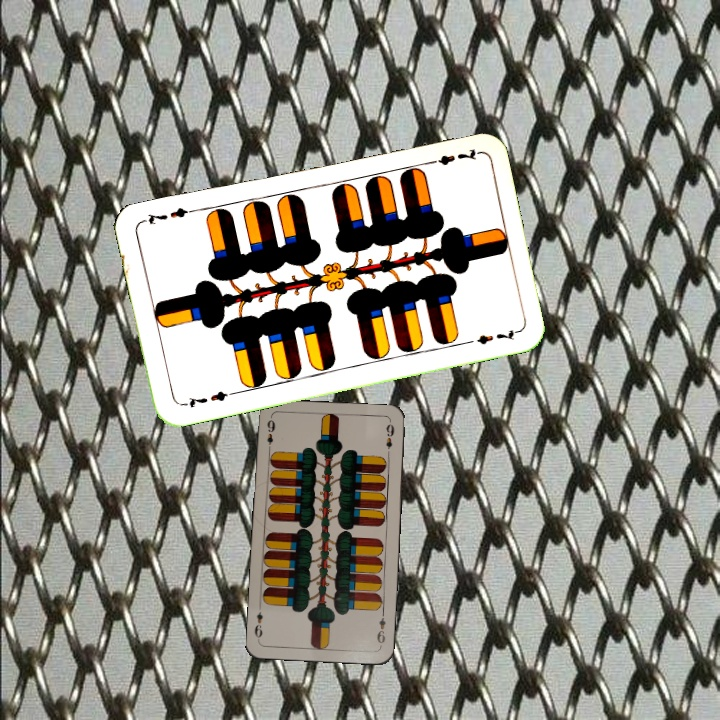E7: (422, 144, 481, 168), (178, 387, 236, 410)
E9: (373, 608, 388, 649), (263, 413, 277, 454)
